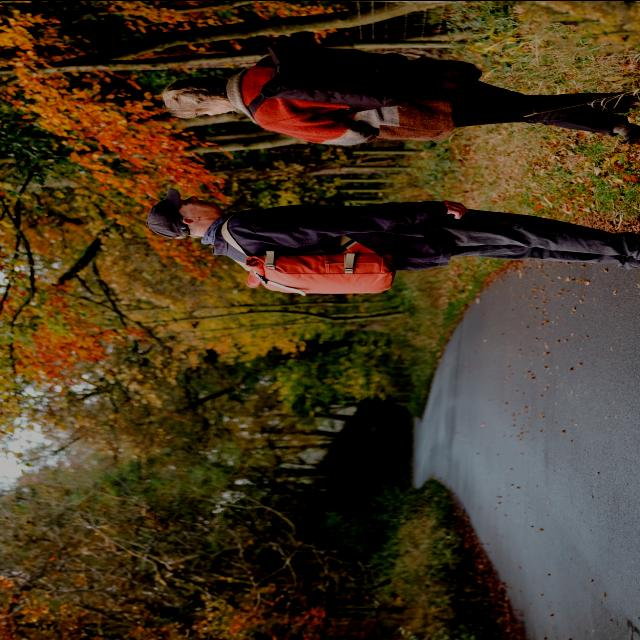backpack: (216, 210, 398, 296), (243, 44, 413, 124)
